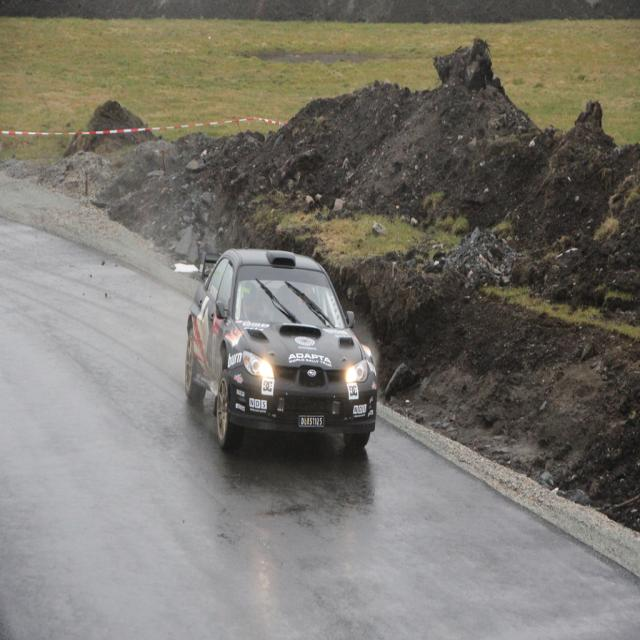car: (181, 241, 381, 460)
